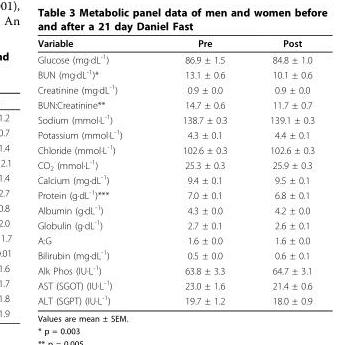table: (36, 37, 314, 306)
table column: (36, 37, 151, 306), (151, 37, 247, 306), (247, 37, 314, 306)
table column header: (36, 37, 314, 50)
table row: (36, 50, 314, 66), (36, 81, 314, 97), (36, 156, 314, 172), (36, 216, 314, 232), (36, 246, 314, 262), (36, 66, 314, 81), (36, 111, 314, 126), (36, 126, 314, 141), (36, 141, 314, 156), (36, 186, 314, 201), (36, 201, 314, 216), (36, 262, 314, 277), (36, 277, 314, 292), (36, 97, 314, 111), (36, 172, 314, 186), (36, 232, 314, 246), (36, 292, 314, 306), (36, 37, 314, 50)
